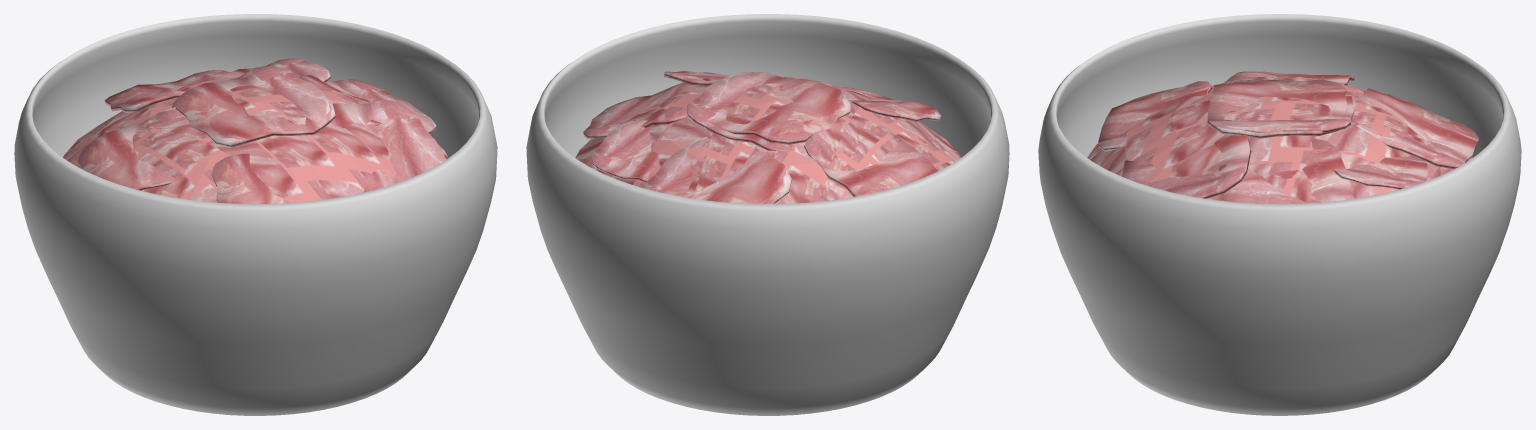
The model's file is ham_bowl.fbx.
3 renders of one model, left to right at view 1: azimuth 30°, elevation 25°; view 2: azimuth 150°, elevation 25°; view 3: azimuth 270°, elevation 25°, orthographic.
Parts seen in each view (by area): view 1: Sphere, Sphere.001, ham.004, ham.003, ham.005, ham, ham.006, ham.007, ham.002, ham.001; view 2: Sphere, Sphere.001, ham.004, ham.007, ham.005, ham.001, ham.006, ham.002, ham, ham.003; view 3: Sphere, Sphere.001, ham.007, ham.004, ham.002, ham.003, ham, ham.001, ham.006, ham.005.
Part boxes in pixels (<box>): Sphere: <box>14,14,497,415</box>; Sphere.001: <box>63,77,448,202</box>; ham.004: <box>175,74,335,147</box>; ham.003: <box>330,99,445,192</box>; ham.005: <box>77,110,196,190</box>; ham: <box>211,153,289,203</box>; ham.006: <box>172,65,330,144</box>; ham.007: <box>104,70,241,113</box>; ham.002: <box>298,75,436,133</box>; ham.001: <box>233,58,330,82</box>; Sphere: <box>526,14,1009,415</box>; Sphere.001: <box>575,76,960,203</box>; ham.004: <box>708,72,850,144</box>; ham.007: <box>641,136,791,203</box>; ham.005: <box>804,125,937,196</box>; ham.001: <box>592,120,660,182</box>; ham.006: <box>687,73,795,151</box>; ham.002: <box>583,78,713,138</box>; ham: <box>844,87,941,121</box>; ham.003: <box>664,70,729,85</box>; Sphere: <box>1038,14,1521,415</box>; Sphere.001: <box>1087,76,1472,202</box>; ham.007: <box>1355,88,1478,168</box>; ham.004: <box>1207,79,1347,138</box>; ham.002: <box>1218,138,1353,204</box>; ham.003: <box>1122,134,1251,198</box>; ham: <box>1098,81,1212,151</box>; ham.001: <box>1334,155,1428,189</box>; ham.006: <box>1218,90,1354,132</box>; ham.005: <box>1224,71,1354,85</box>.
Bounding box in the file's own units: 39.86 × 22.74 × 39.86.
10 materials, 9 textured.
